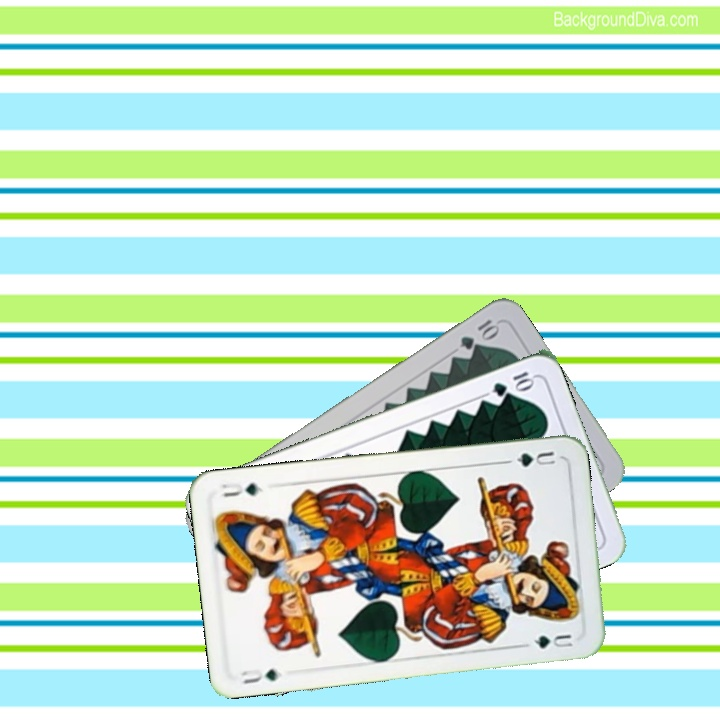G10: (456, 315, 502, 353), (488, 367, 537, 399)
GU: (512, 447, 560, 470), (236, 664, 285, 686)
